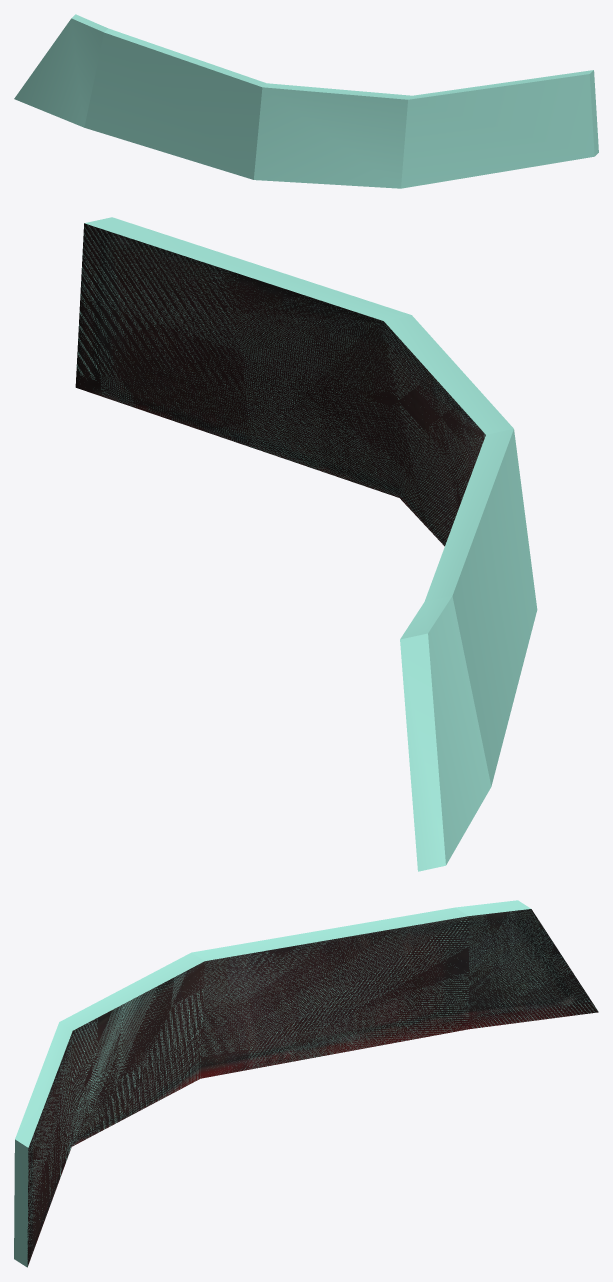
Rendered from SampleCar_01_Rear_L.fbx.
3 renders of one model, top to bottom at view 1: azimuth 30°, elevation 25°; view 2: azimuth 150°, elevation 25°; view 3: azimuth 270°, elevation 25°, orthographic. The views are drawn at different scales.
Visible parts, largest first — view 1: UTM_glass_009; view 2: glass_009_LOD0, UTM_glass_009; view 3: glass_009_LOD0, UTM_glass_009.
Part boxes in pixels (<box>): UTM_glass_009: <box>14,14,598,188</box>; glass_009_LOD0: <box>75,223,485,546</box>; UTM_glass_009: <box>76,217,537,871</box>; glass_009_LOD0: <box>27,909,598,1266</box>; UTM_glass_009: <box>14,900,598,1267</box>.
Bounding box in the file's own units: 27.09 × 6.22 × 25.54.
